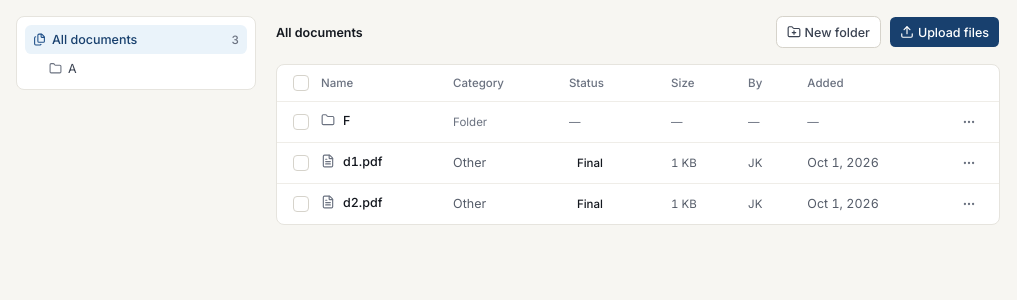
Test case: selection › click then shift-click selects the range
This screenshot has width=1017, height=300.
Click the cell "Folder". click: [470, 122]
box: [441,101,557,142]
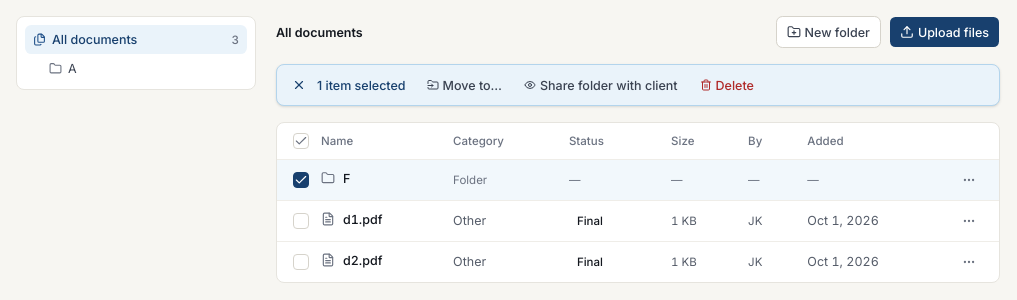
Click the cell "Other" next to "d2.pdf". click: [470, 262]
box: [441,241,557,282]
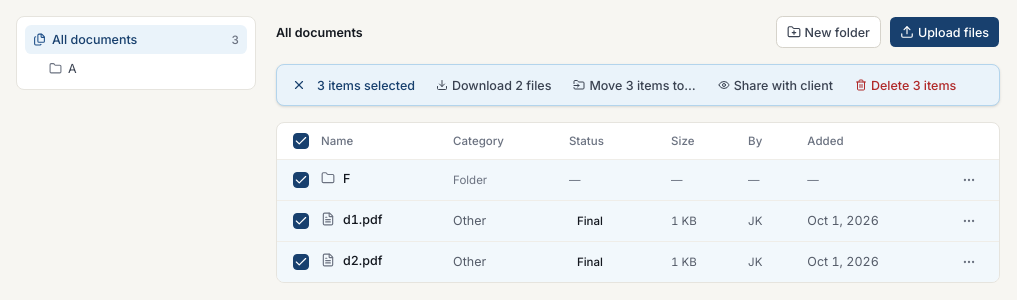
Now the text "3 items selected" is shown, box [317,76,415,94]
